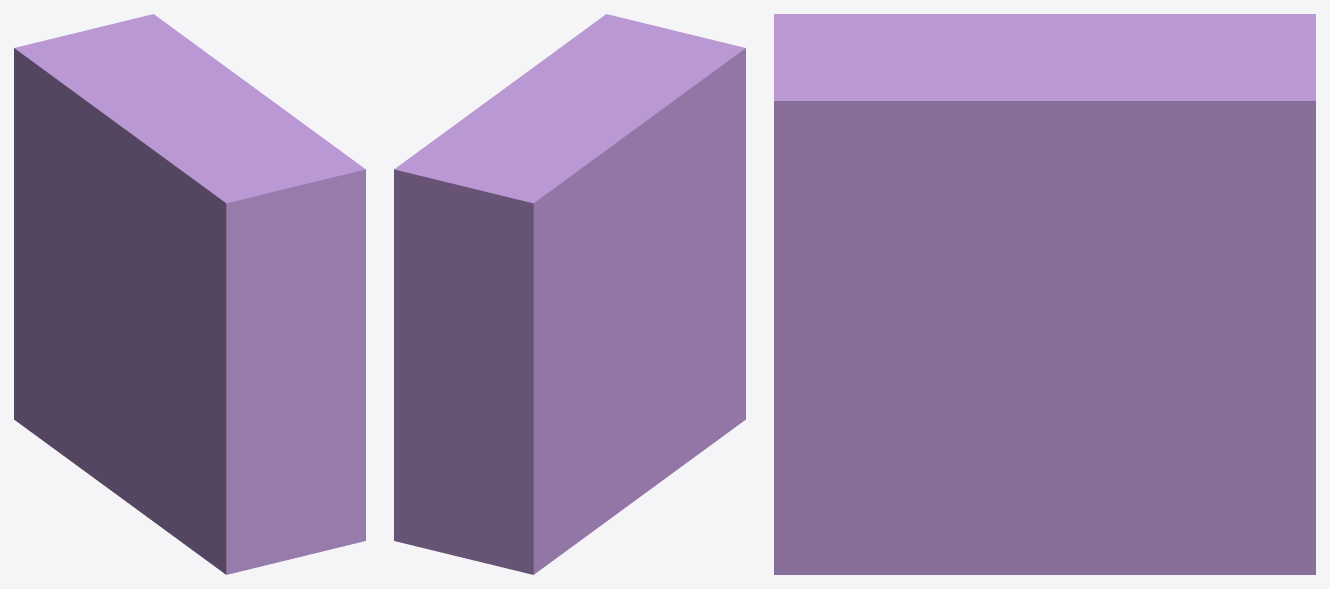
Rendered from stationary-mgnest.glb.
The picture shows the model from 3 angles, left to right: view 1: azimuth 30°, elevation 25°; view 2: azimuth 150°, elevation 25°; view 3: azimuth 270°, elevation 25°; orthographic projection. The views are drawn at different scales.
Parts seen in each view (by area): view 1: CC_Browning_Mount; view 2: CC_Browning_Mount; view 3: CC_Browning_Mount.
Part boxes in pixels (left/top/right/bottom): CC_Browning_Mount: left=14, top=14, right=365, bottom=574; CC_Browning_Mount: left=394, top=14, right=745, bottom=574; CC_Browning_Mount: left=774, top=14, right=1315, bottom=574.
Size of the model in its own units: 0.22 by 0.56 by 0.58.
